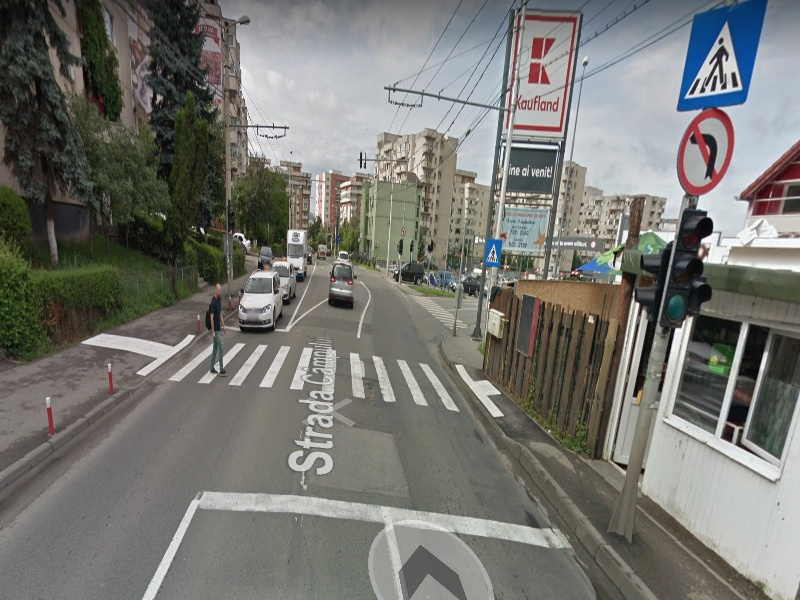crosswalk: (160, 334, 464, 416)
crosswalk_sign: (679, 1, 767, 110), (481, 238, 504, 271)
pedestrian: (204, 283, 231, 386)
semaphore: (660, 203, 712, 343)
